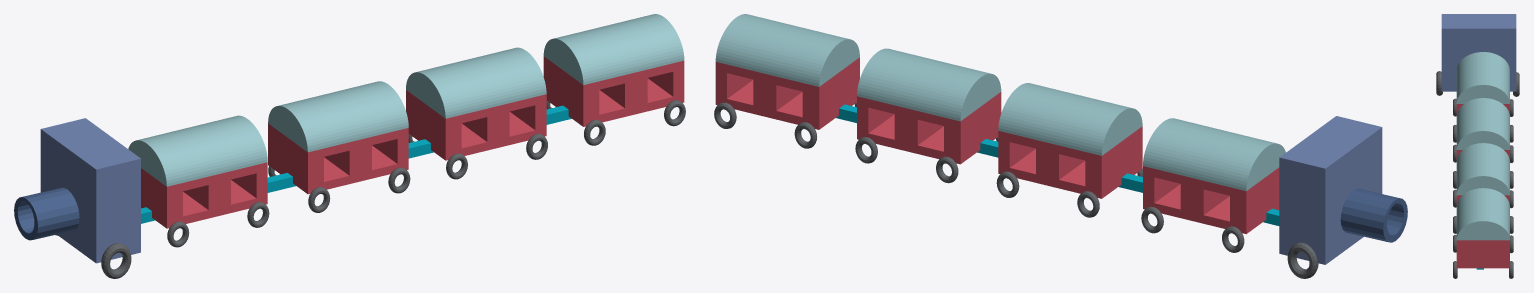
Rendered from TRAIN.glb.
3 renders of one model, left to right at view 1: azimuth 30°, elevation 25°; view 2: azimuth 150°, elevation 25°; view 3: azimuth 270°, elevation 25°, orthographic. The views are drawn at different scales.
Parts seen in each view (by area): view 1: Mesh_Mesh_head_geo.001_lambert2SG.001; view 2: Mesh_Mesh_head_geo.001_lambert2SG.001; view 3: Mesh_Mesh_head_geo.001_lambert2SG.001.
Boxes of the visible parts, x1,y1,x2,y2 form: Mesh_Mesh_head_geo.001_lambert2SG.001: [14, 14, 685, 278]; Mesh_Mesh_head_geo.001_lambert2SG.001: [714, 14, 1407, 278]; Mesh_Mesh_head_geo.001_lambert2SG.001: [1436, 14, 1519, 278].
Bounding box in the file's own units: 400 × 66.83 × 67.32.
